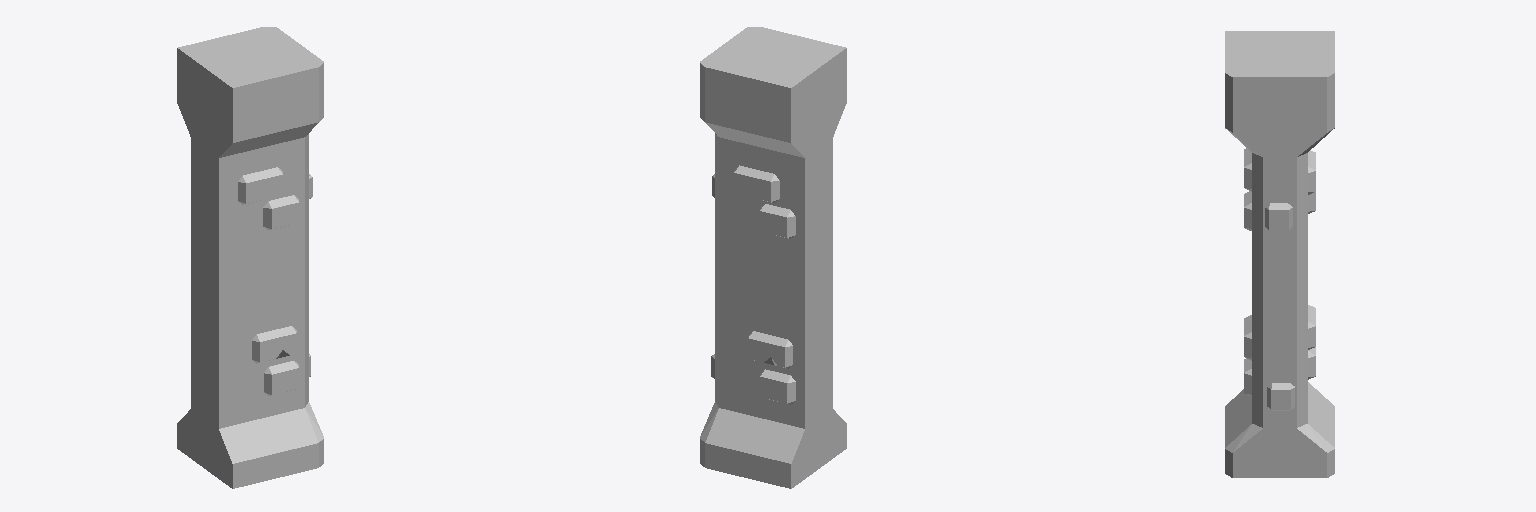
The model's file is wall_endcap.obj.
3 renders of one model, left to right at view 1: azimuth 30°, elevation 25°; view 2: azimuth 150°, elevation 25°; view 3: azimuth 270°, elevation 25°, orthographic.
Visible parts, largest first — view 1: wall_endcap_Cube.13148; view 2: wall_endcap_Cube.13148; view 3: wall_endcap_Cube.13148.
Part boxes in pixels (x1,y1,x2,y2): wall_endcap_Cube.13148: (177, 27, 323, 488); wall_endcap_Cube.13148: (700, 27, 846, 488); wall_endcap_Cube.13148: (1225, 31, 1334, 477).
Bounding box in the file's own units: 1.07 × 4 × 1.